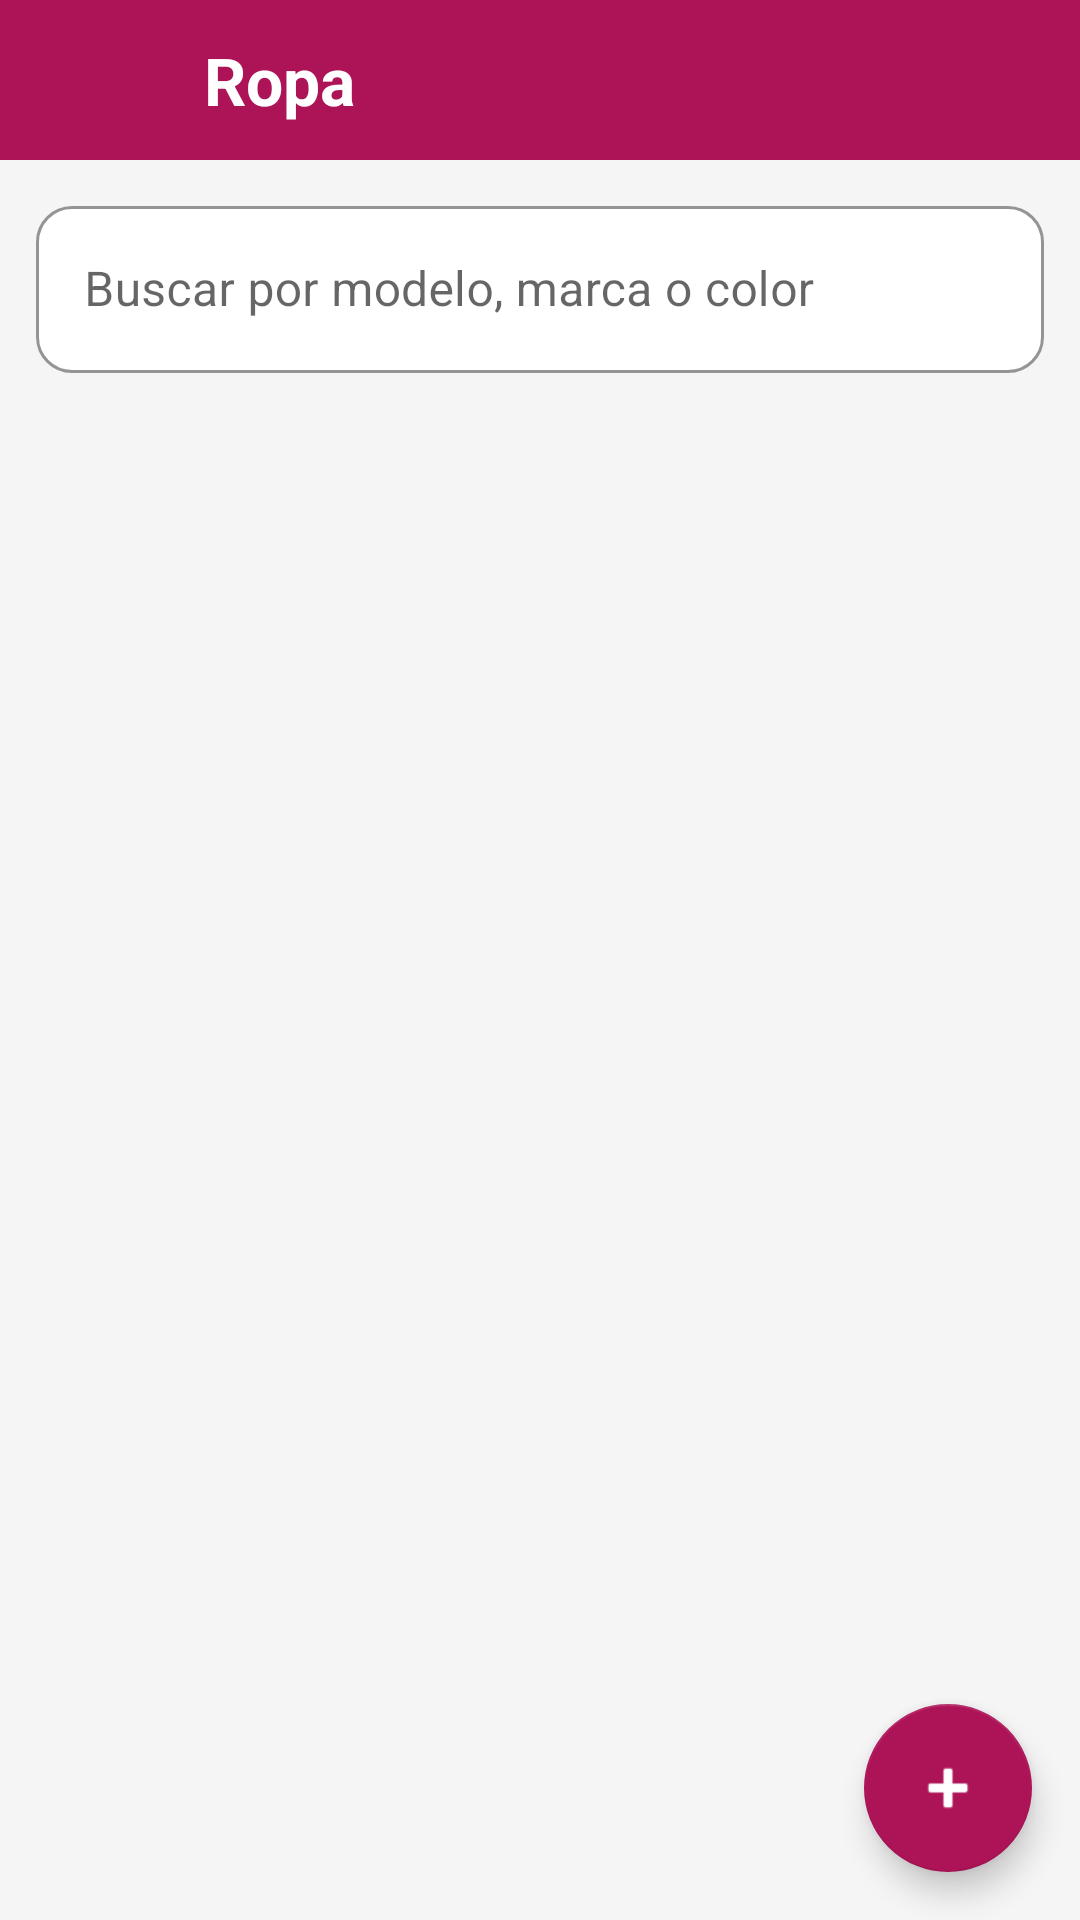

Locate icon controls on the screen. Image size 1080 × 1920, boxes as (x1, y1, x2, y2).
Nueva ropa: (864, 1704, 1032, 1872)
